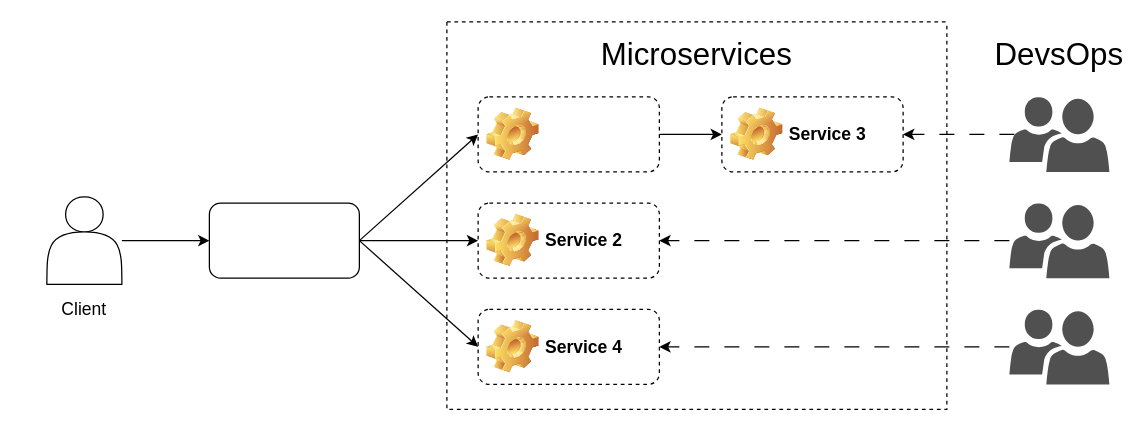
This 1145x431 diagram has some shape labels left out. Each missing label, with the box of its shape:
API Gateway: (208, 202, 359, 278)
Service 1: (477, 96, 659, 172)
